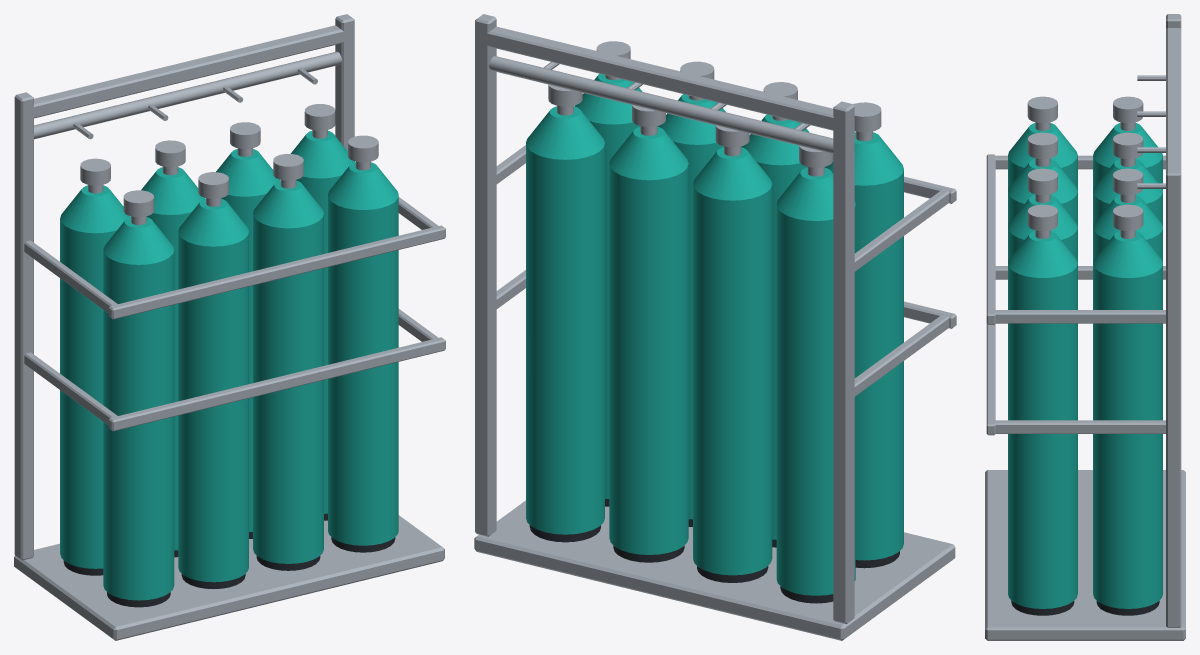
The model's file is gas-cylinder-bank.glb.
3 views of the same model, side by side, from view 1: azimuth 30°, elevation 25°; view 2: azimuth 150°, elevation 25°; view 3: azimuth 270°, elevation 25° (orthographic). The views are drawn at different scales.
Visible parts, largest first — view 1: gas-cylinder-bank; view 2: gas-cylinder-bank; view 3: gas-cylinder-bank.
Boxes of the visible parts, x1,y1,x2,y2 form: gas-cylinder-bank: [14, 14, 445, 640]; gas-cylinder-bank: [474, 14, 956, 640]; gas-cylinder-bank: [985, 14, 1185, 640].
Bounding box in the file's own units: 1.25 × 1.7 × 0.66.
